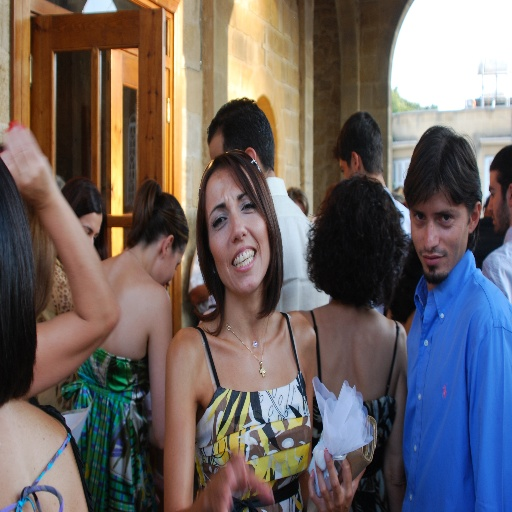hand: (8, 117, 90, 272), (199, 446, 275, 511), (307, 445, 366, 511)
